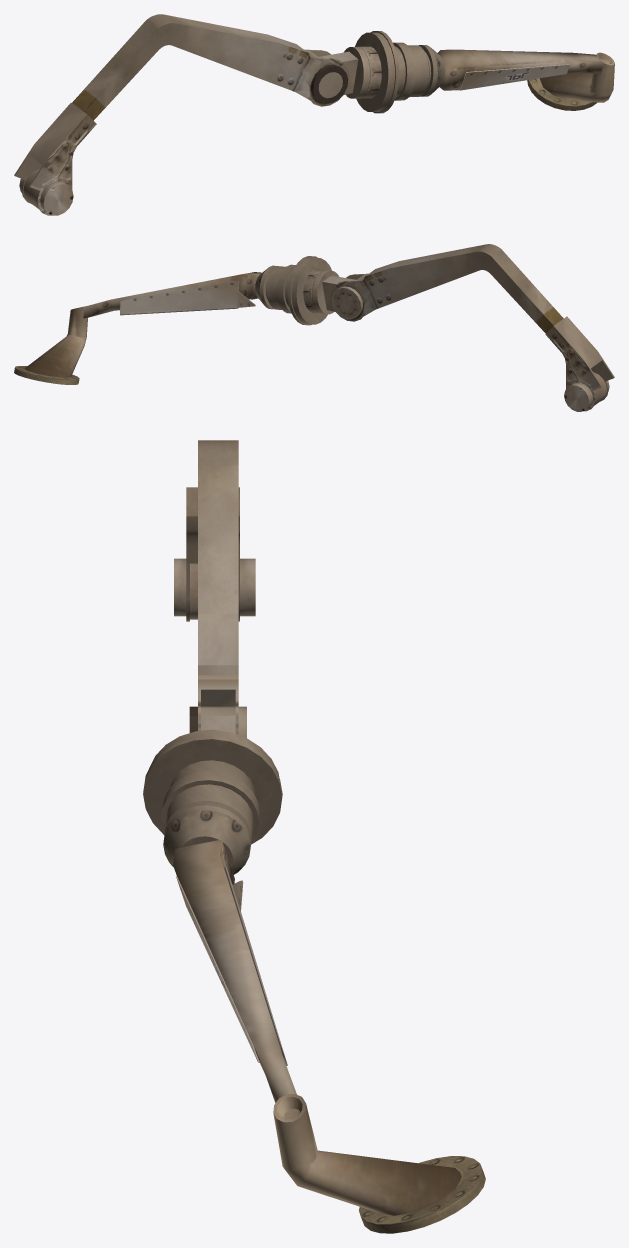
Rendered from Body_RockerLeft.dae.
3 renders of one model, top to bottom at view 1: azimuth 30°, elevation 25°; view 2: azimuth 150°, elevation 25°; view 3: azimuth 270°, elevation 25°, orthographic. The views are drawn at different scales.
Visible parts, largest first — view 1: suspension_right_middle_rocker, suspension_right_front_rocker, suspension_right_front; view 2: suspension_right_middle_rocker, suspension_right_front_rocker, suspension_right_front; view 3: suspension_right_front_rocker, suspension_right_middle_rocker, suspension_right_front.
Boxes of the visible parts, box(x1,y1,x2,y2) form: suspension_right_middle_rocker: box(14, 14, 349, 215); suspension_right_front_rocker: box(438, 49, 614, 110); suspension_right_front: box(318, 31, 445, 113); suspension_right_middle_rocker: box(330, 244, 614, 411); suspension_right_front_rocker: box(14, 272, 261, 384); suspension_right_front: box(255, 256, 356, 325); suspension_right_front_rocker: box(173, 840, 485, 1233); suspension_right_middle_rocker: box(174, 440, 255, 737); suspension_right_front: box(143, 706, 282, 874).
Size of the model in its own units: 1.03 by 0.2855 by 0.3631.
1 material, 1 textured.
